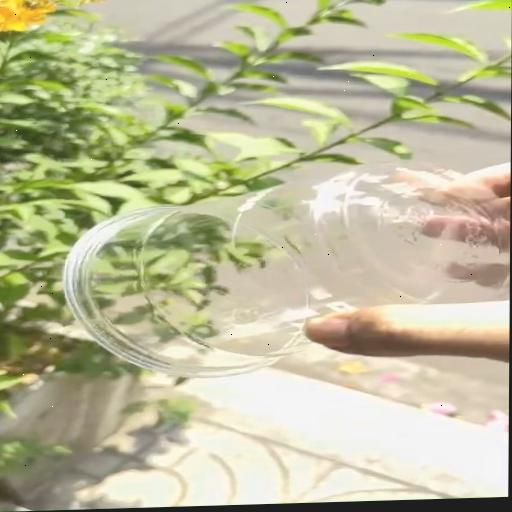ly_giay: (64, 164, 510, 377)
